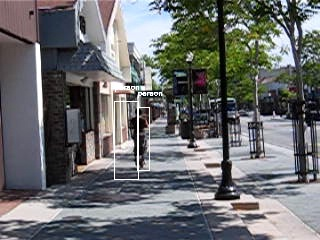person: (129, 109, 148, 170), (128, 109, 147, 170), (130, 109, 149, 170), (129, 108, 148, 169), (129, 110, 148, 171)
target_negative: (61, 14, 281, 207), (150, 14, 238, 198), (89, 43, 317, 107), (192, 48, 276, 203), (67, 111, 280, 145), (277, 53, 299, 79)
